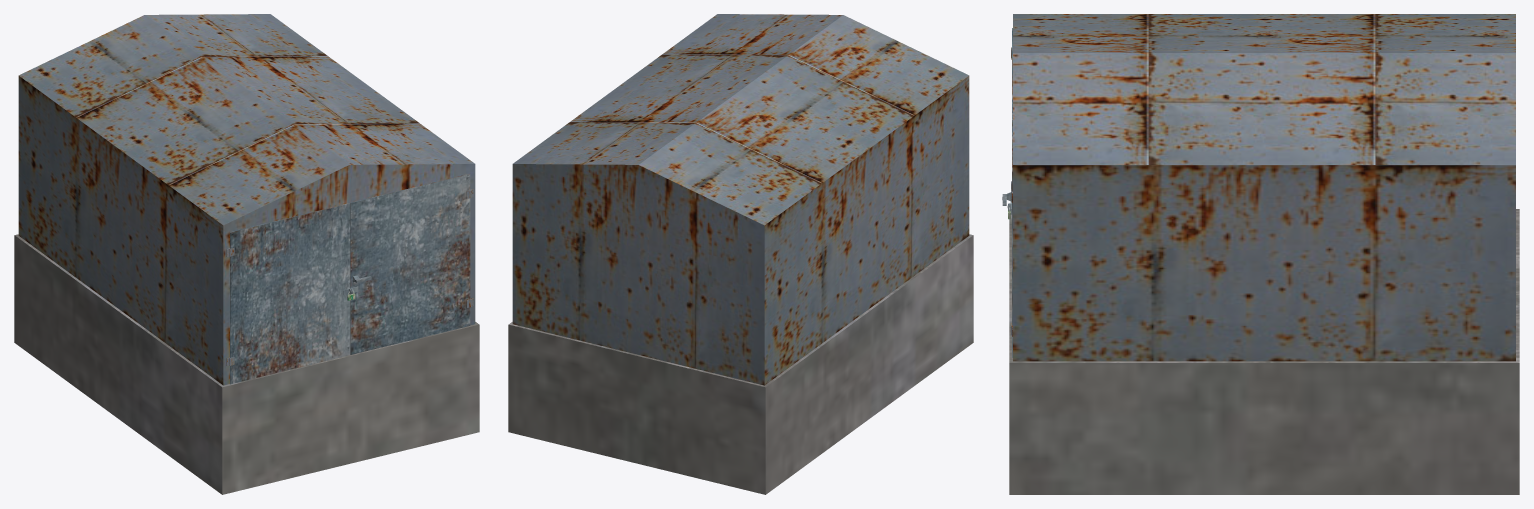
File: garage.fbx
3 views of the same model, side by side, from view 1: azimuth 30°, elevation 25°; view 2: azimuth 150°, elevation 25°; view 3: azimuth 270°, elevation 25° (orthographic). The views are drawn at different scales.
Parts seen in each view (by area): view 1: Garage walls, Floor, Garage Door right, Garage Door left; view 2: Garage walls, Floor; view 3: Garage walls, Floor.
Boxes of the visible parts, box(x1,y1,x2,y2) form: Garage walls: box(18, 14, 475, 385); Floor: box(14, 234, 479, 494); Garage Door right: box(230, 203, 351, 384); Garage Door left: box(350, 173, 470, 354); Garage walls: box(512, 14, 969, 385); Floor: box(508, 234, 973, 494); Garage walls: box(1013, 14, 1515, 361); Floor: box(1009, 209, 1519, 494).
Bounding box in the file's own units: 1000 × 1106 × 1419.
20 materials, 19 textured.
